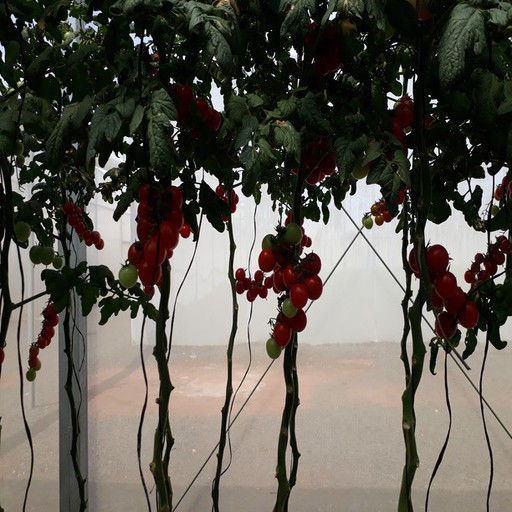green tomato bunch: (12, 221, 64, 269)
mixed tomato bunch: (488, 171, 512, 223)
red tomato bunch: (260, 223, 324, 362), (408, 244, 481, 338), (130, 183, 185, 288), (161, 80, 222, 138), (297, 20, 356, 77), (288, 132, 342, 185), (379, 95, 431, 146), (28, 301, 59, 382), (63, 201, 106, 250), (374, 172, 411, 226), (234, 266, 288, 300), (214, 185, 240, 221)
